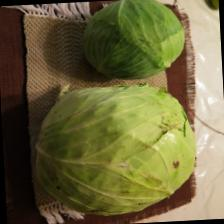cabbage: (29, 81, 199, 219), (77, 0, 186, 82)
